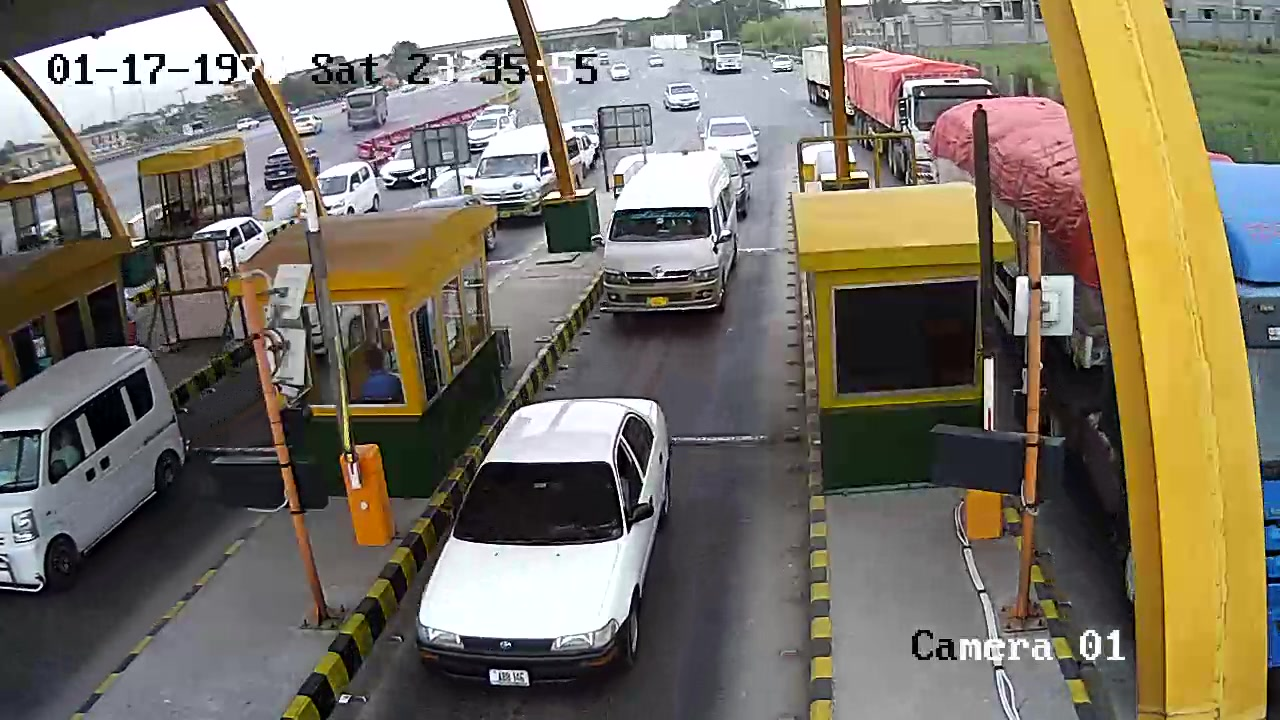F1: (417, 393, 679, 696)
F3: (597, 147, 737, 333)
